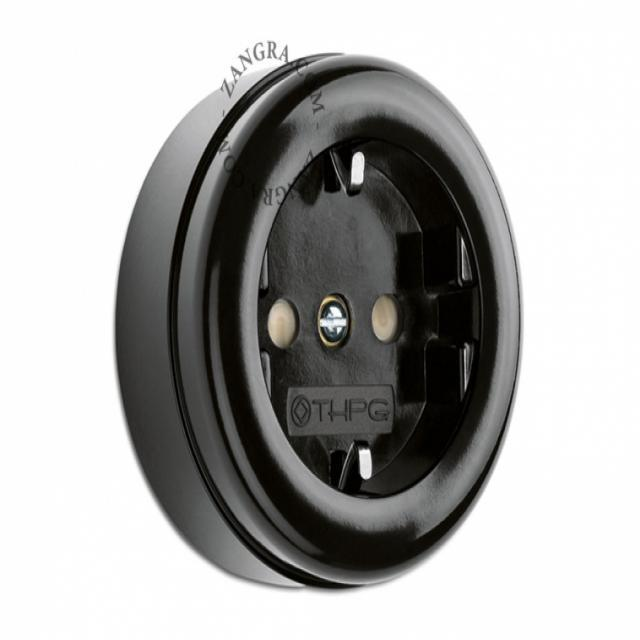typeb: (130, 44, 569, 602)
